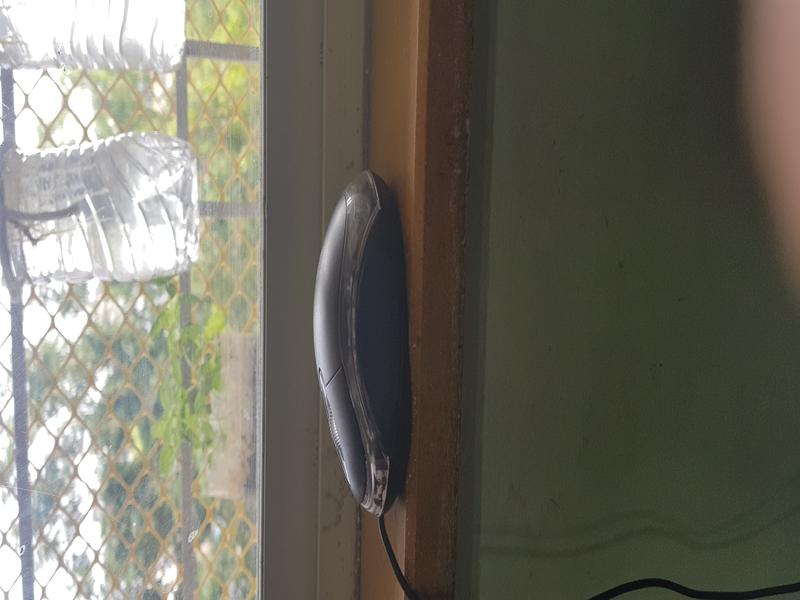mouse: (292, 179, 426, 548)
